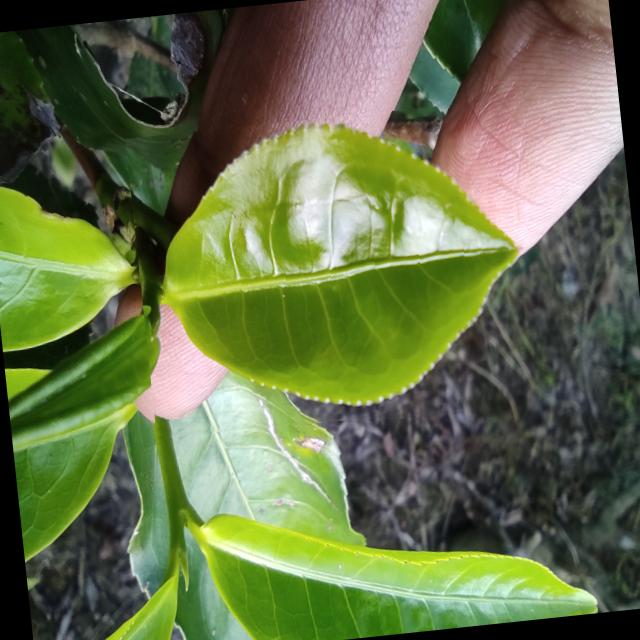Category B(2-4 days): (124, 98, 547, 444)
